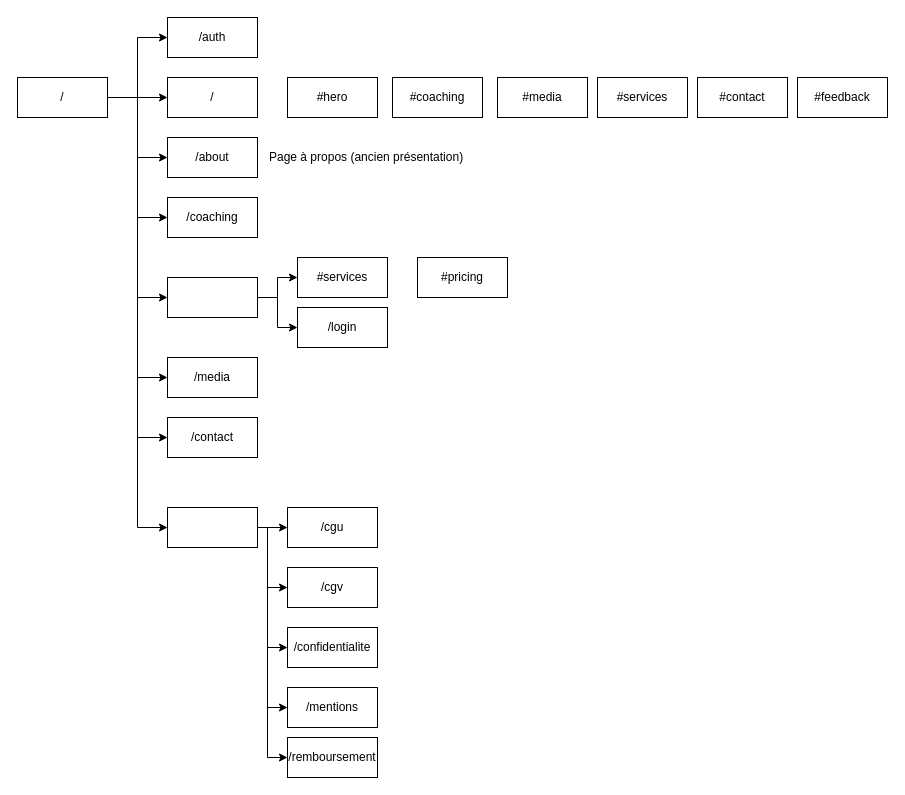
The diagram is 905 pixels wide and 795 high, and some of its shapes have lost their labels. Here are the shapes that lost their labels. From the top down, the box of each, then its label:
(166, 276, 258, 318): /services
(166, 506, 258, 548): /legals
